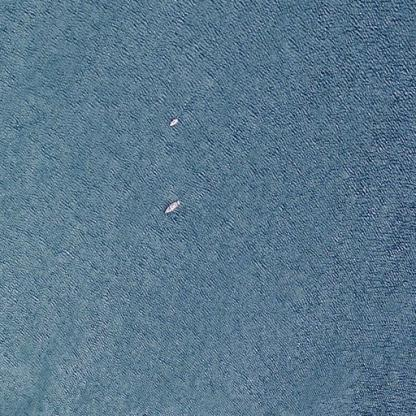ship: (160, 194, 184, 219), (164, 114, 181, 128)
